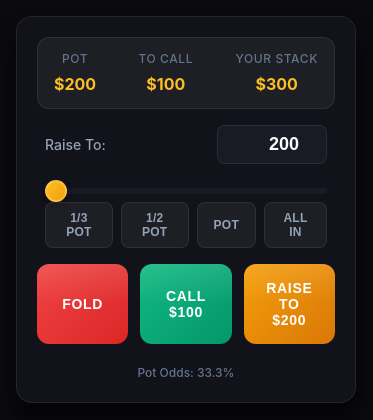
Test case: BettingControls › Betting Interface › should limit bet amount to player chips
This screenshot has width=373, height=420.
Clear the number field at point(272, 144), box 217,125 -> 327,164
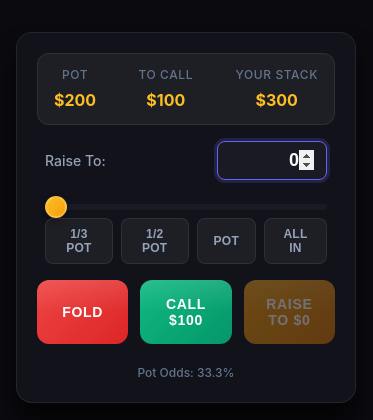
Type "500" into the number field.
click(272, 160); type("500")  # box 217,141 -> 327,180
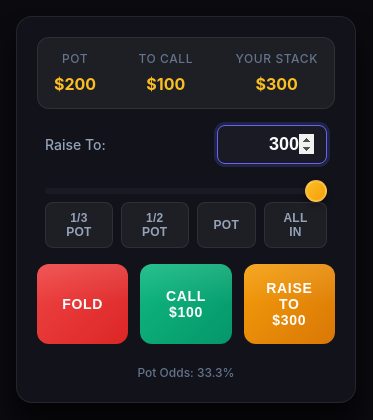
Expected: the number field holds "300", 217,125 -> 327,164
